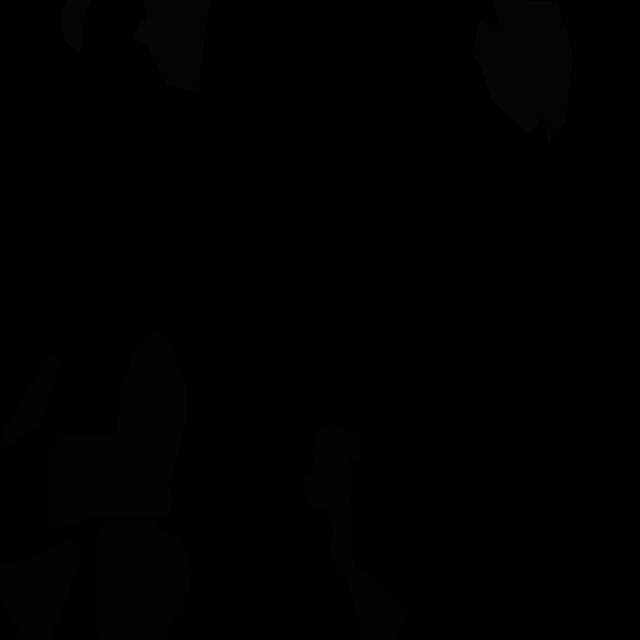cardboard: (46, 332, 187, 529), (0, 355, 81, 640), (303, 422, 408, 640), (99, 519, 191, 640)
soft_plastic: (473, 0, 573, 145), (60, 0, 210, 92)
